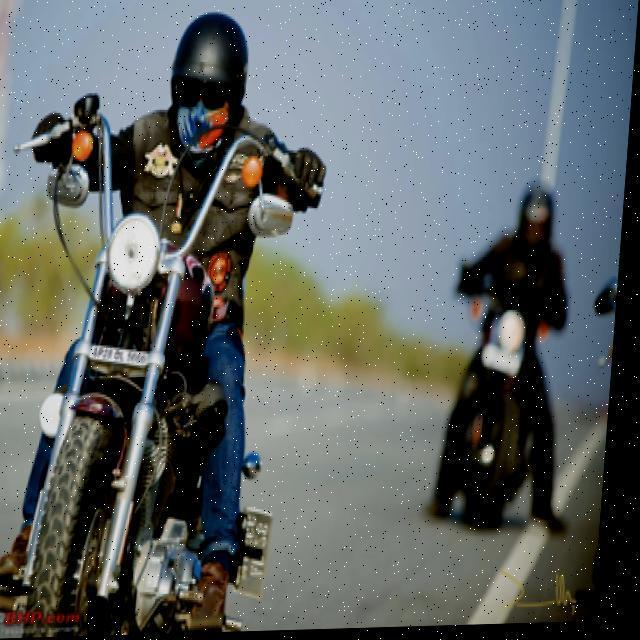Helmet: (165, 6, 254, 167), (487, 162, 562, 246)
